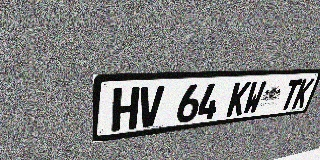4: (196, 83, 223, 121)
6: (176, 84, 203, 124)
H: (111, 87, 140, 132)
K: (226, 81, 252, 117), (291, 78, 315, 109)
T: (278, 79, 303, 111)
V: (137, 85, 165, 129)
W: (242, 80, 267, 115)
